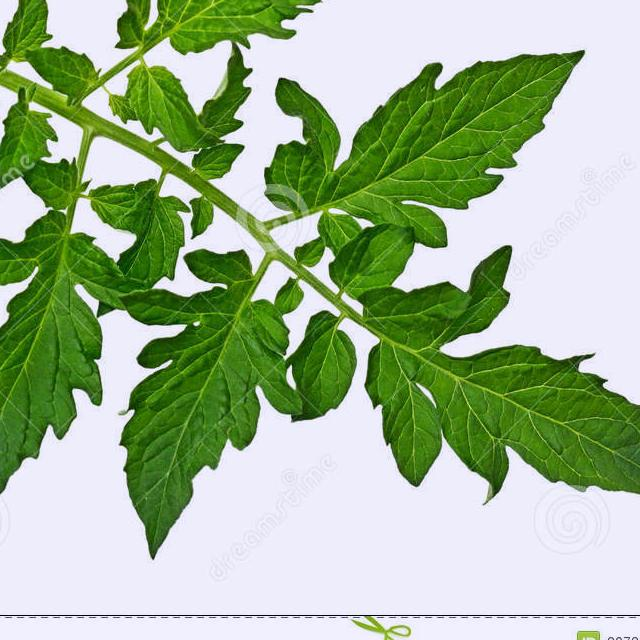Tomato leaf: (113, 232, 304, 566), (294, 46, 611, 246), (393, 324, 640, 540), (0, 194, 142, 526), (99, 0, 473, 72), (0, 143, 5, 378)
